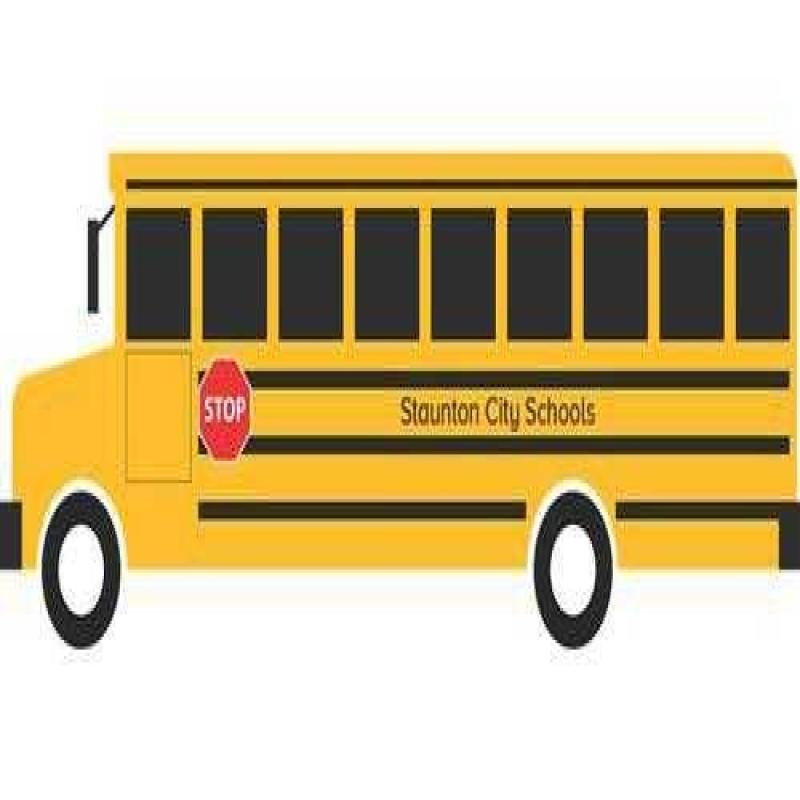bus: (11, 84, 800, 723)
